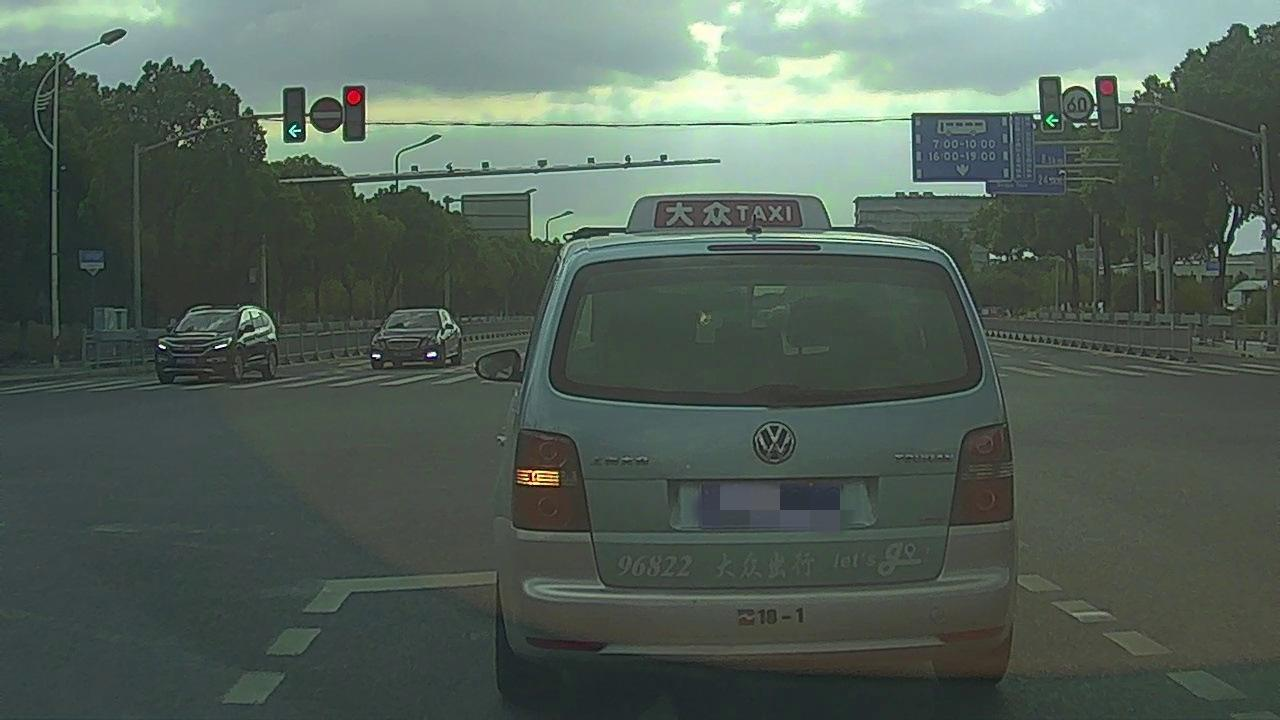traffic_light: (1040, 76, 1064, 131), (1095, 76, 1119, 130), (347, 85, 365, 141), (286, 89, 304, 142)
